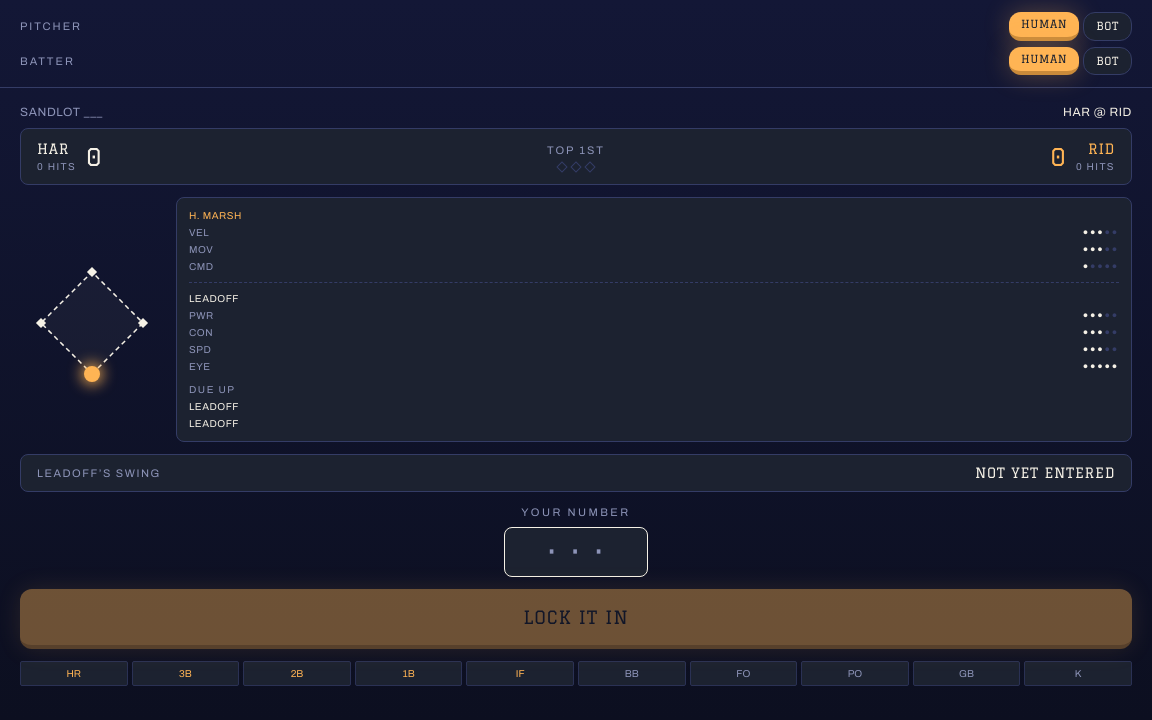
Scenario: DuelPlay › sets a seat to bot so the human never fills it (human-vs-bot)
Expected: the field labelled "your number" is shown, top-left (504, 526), bottom-right (648, 576)
Click the button with aria-label "set pitcher to bot".
click(1108, 26)  # box top-left (1083, 12), bottom-right (1132, 40)
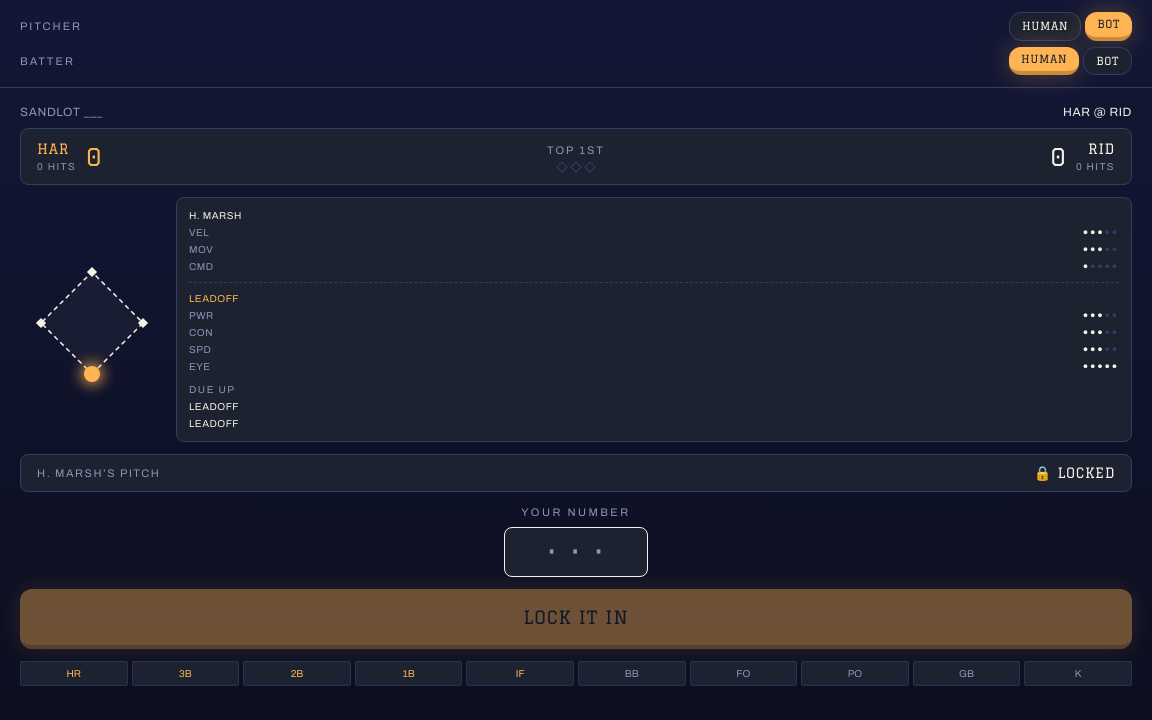
Expected: the field labelled "your number" is shown, top-left (504, 526), bottom-right (648, 576)
Now the text "🔒 LOCKED" is shown, box top-left (1034, 463), bottom-right (1115, 483)
